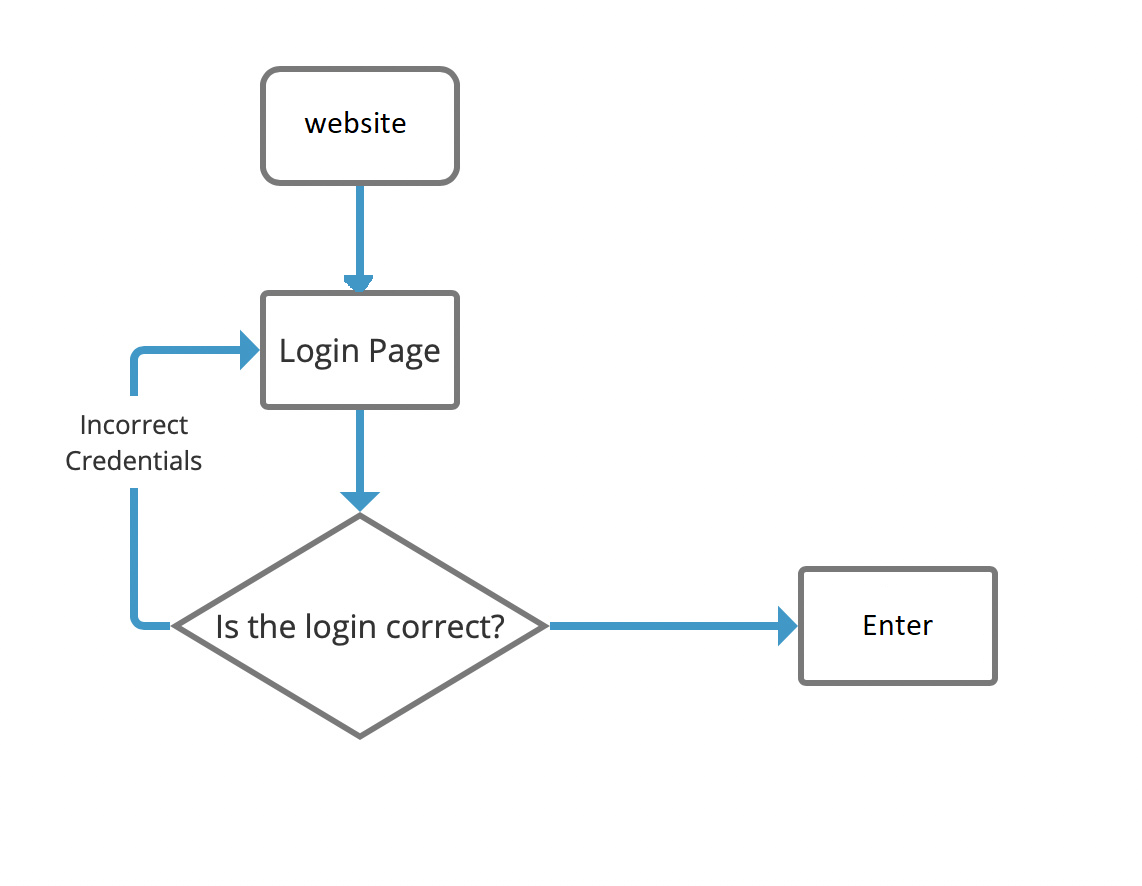arrow: (121, 329, 259, 636), (547, 604, 798, 648), (336, 406, 382, 519), (337, 180, 375, 295)
decision: (171, 510, 552, 740)
process: (255, 61, 464, 194), (254, 287, 466, 414), (795, 564, 1004, 688)
text: (213, 609, 506, 648), (63, 410, 204, 473), (276, 333, 444, 368), (299, 106, 409, 136), (859, 609, 933, 637)
